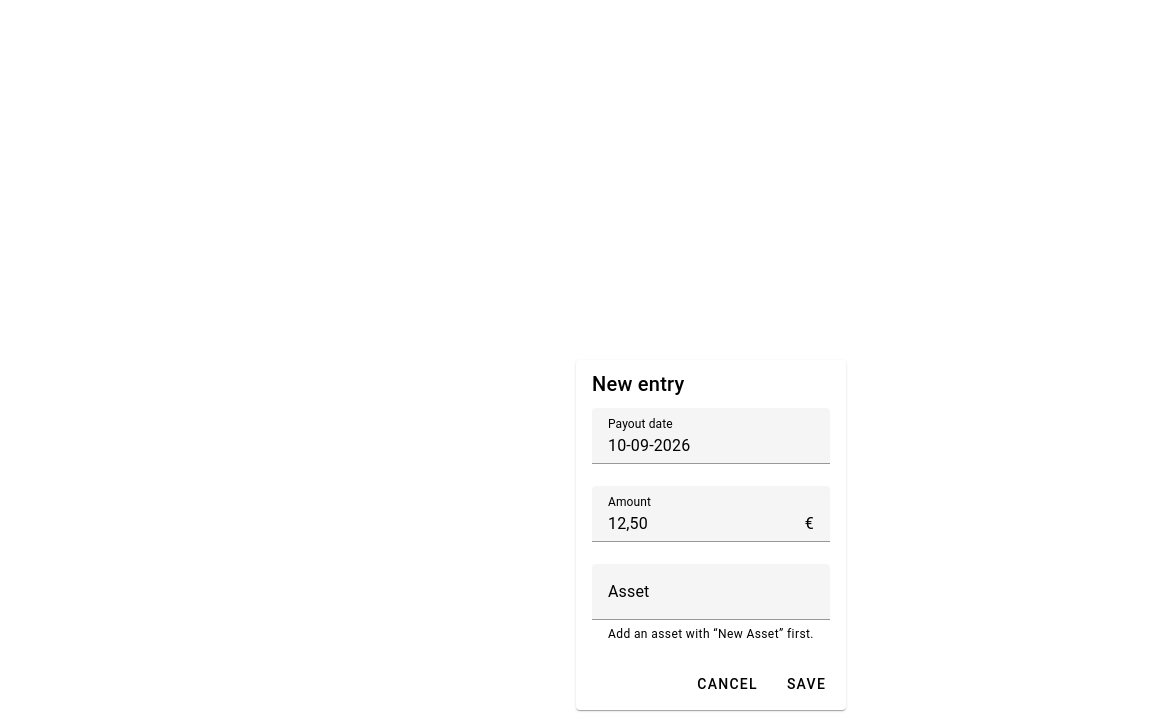
it: NewEntryDialog — assets › saves nothing when the user has no asset to choose
Click the button "Save" at (806, 684), box [774, 666, 838, 702]
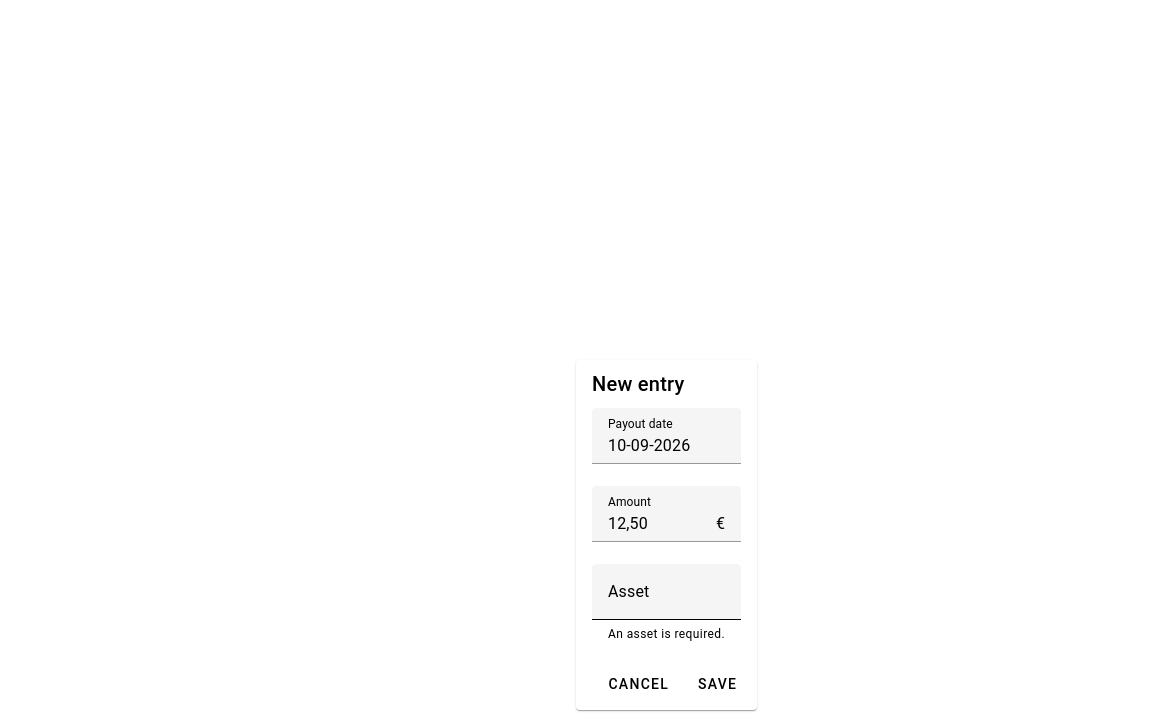
Expected: the element showing "Asset An asset is required." is shown, [592, 564, 741, 642]
